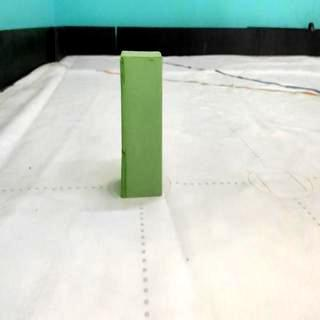greenbox: (119, 48, 164, 198)
